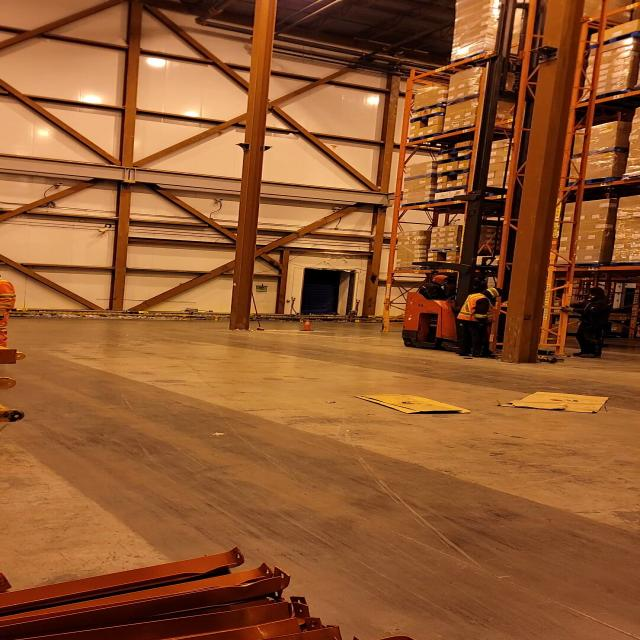forklift: (400, 184, 558, 366)
human: (557, 280, 617, 362), (407, 270, 465, 302), (0, 274, 21, 353)
objectofinterest: (499, 32, 573, 358), (490, 387, 616, 416), (354, 393, 474, 416)
